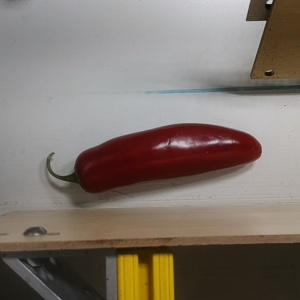Cut Point: (64, 155, 98, 198)
